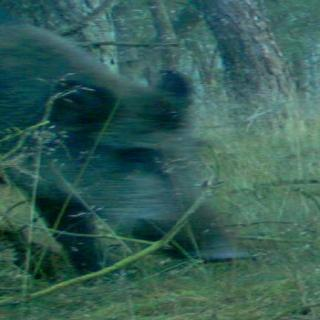Pig: (0, 0, 309, 284)
